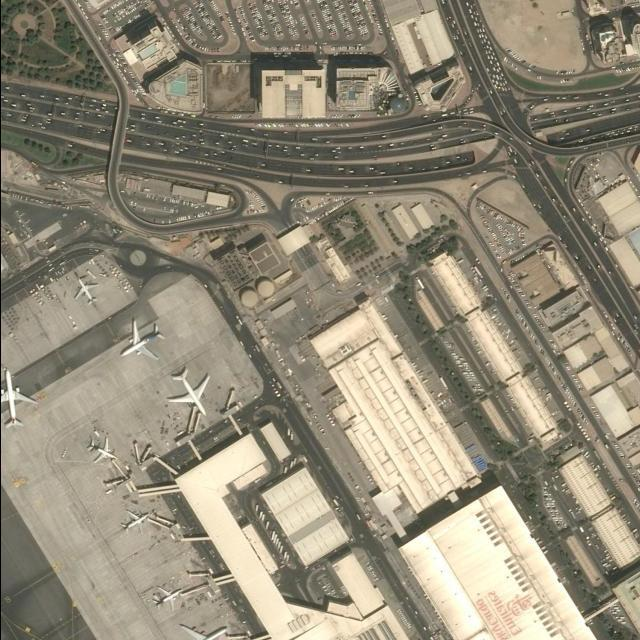Aircraft: (165, 367, 211, 417), (118, 317, 163, 361), (0, 369, 32, 426), (163, 621, 227, 640), (149, 580, 181, 611), (119, 507, 150, 533), (86, 435, 114, 463), (73, 274, 96, 303)
